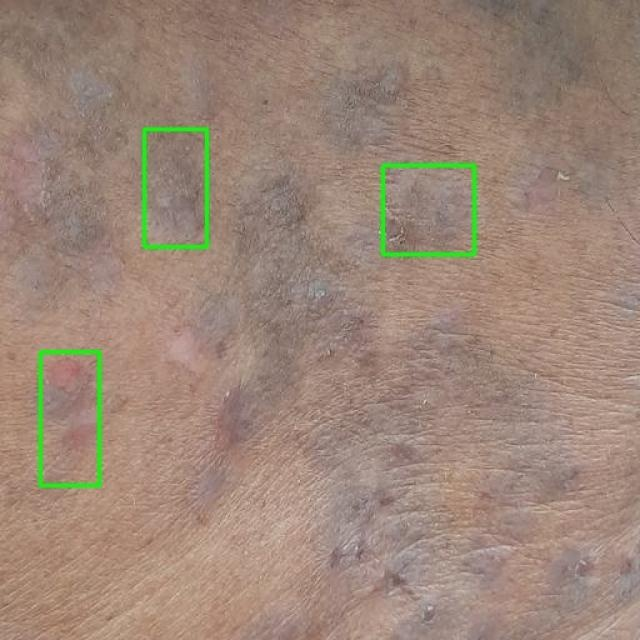Contact Dermatitis: (382, 165, 474, 254), (40, 351, 99, 485), (144, 129, 206, 246)
